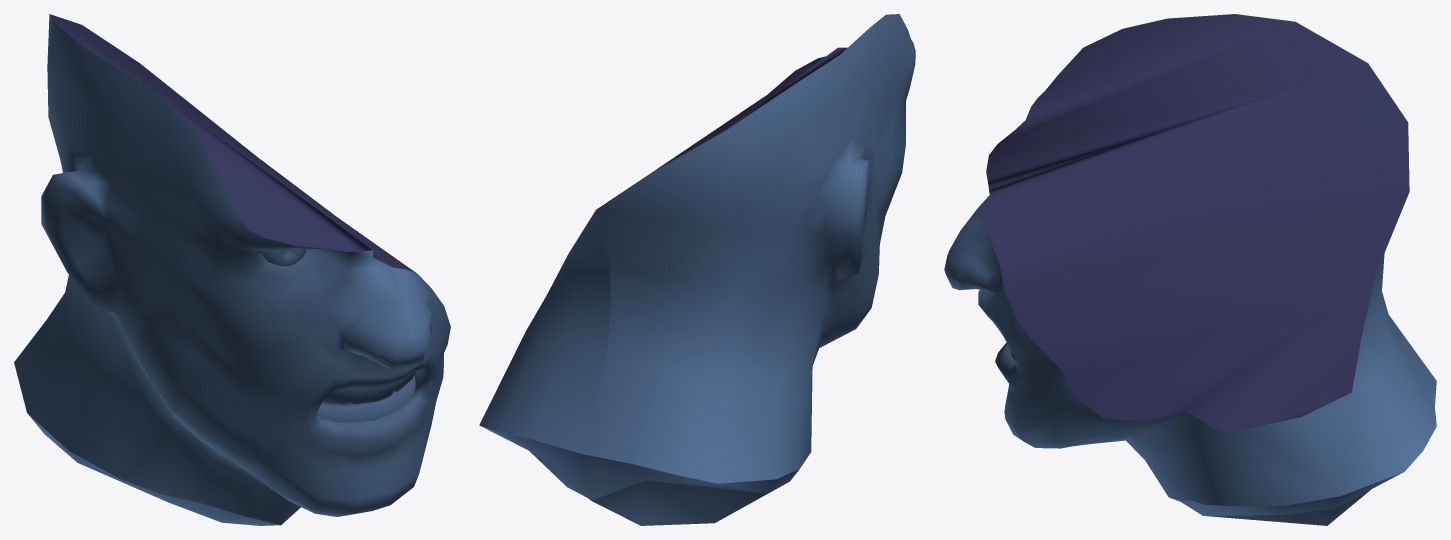
Rendered from Z_Head.003.fbx.
3 views of the same model, side by side, from view 1: azimuth 30°, elevation 25°; view 2: azimuth 150°, elevation 25°; view 3: azimuth 270°, elevation 25° (orthographic). The views are drawn at different scales.
Visible parts, largest first — view 1: Z_Head.003; view 2: Z_Head.003; view 3: Z_Head.003.
Boxes of the visible parts, left/top/right/bottom form: Z_Head.003: left=14, top=14, right=450, bottom=525; Z_Head.003: left=479, top=14, right=915, bottom=525; Z_Head.003: left=944, top=14, right=1436, bottom=525.
Size of the model in its own units: 1580 by 2216 by 2293.
